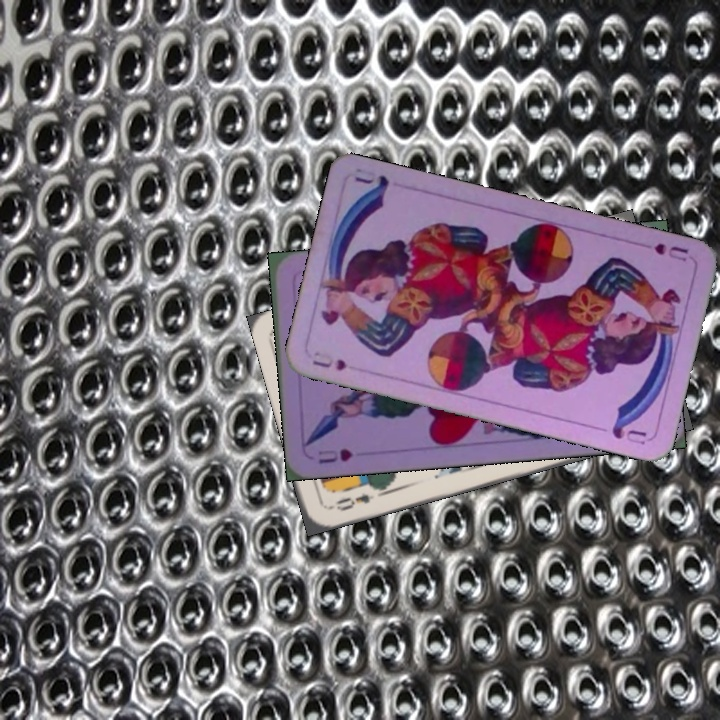EO: (325, 490, 377, 514)
HU: (314, 444, 356, 467)
SU: (308, 347, 349, 374), (650, 239, 691, 264)
